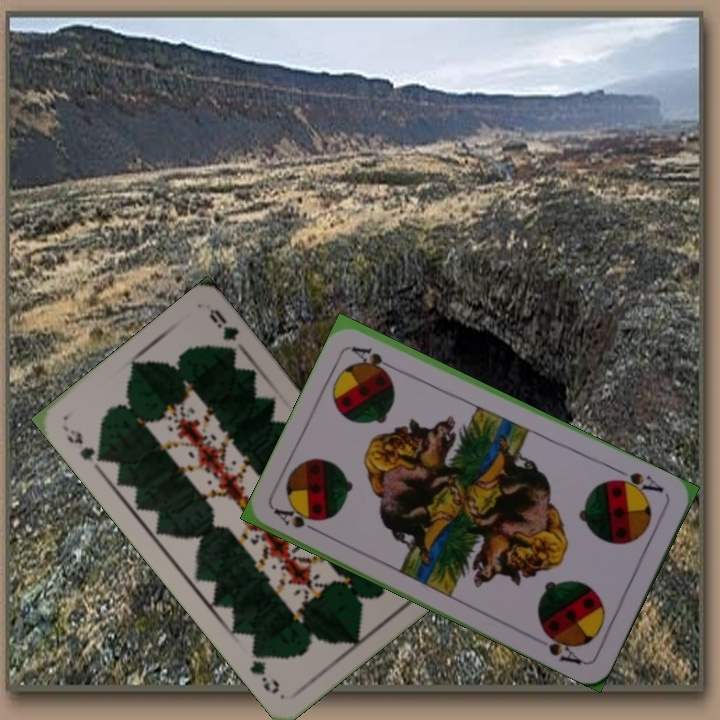G9: (59, 422, 108, 473)
SA: (609, 465, 666, 499), (270, 504, 326, 538)
